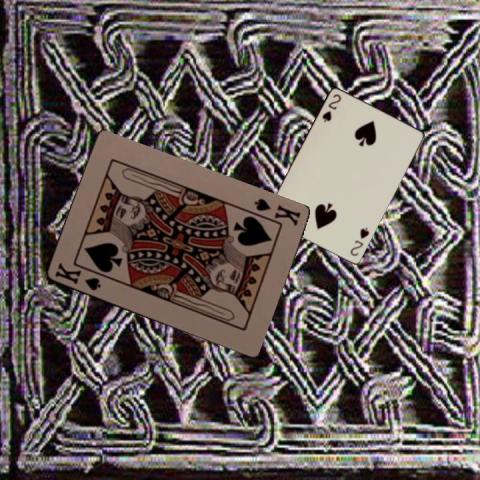2s: (318, 91, 343, 123), (347, 225, 371, 257)
Ks: (51, 259, 102, 293), (251, 195, 302, 228)
